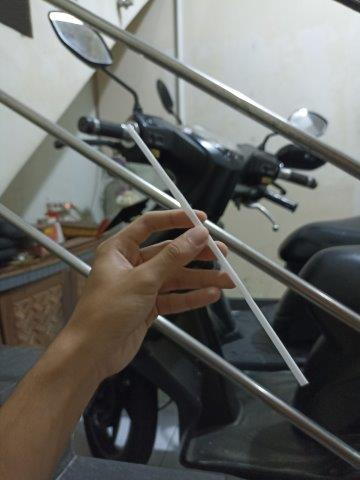sedotan: (125, 126, 305, 385)
